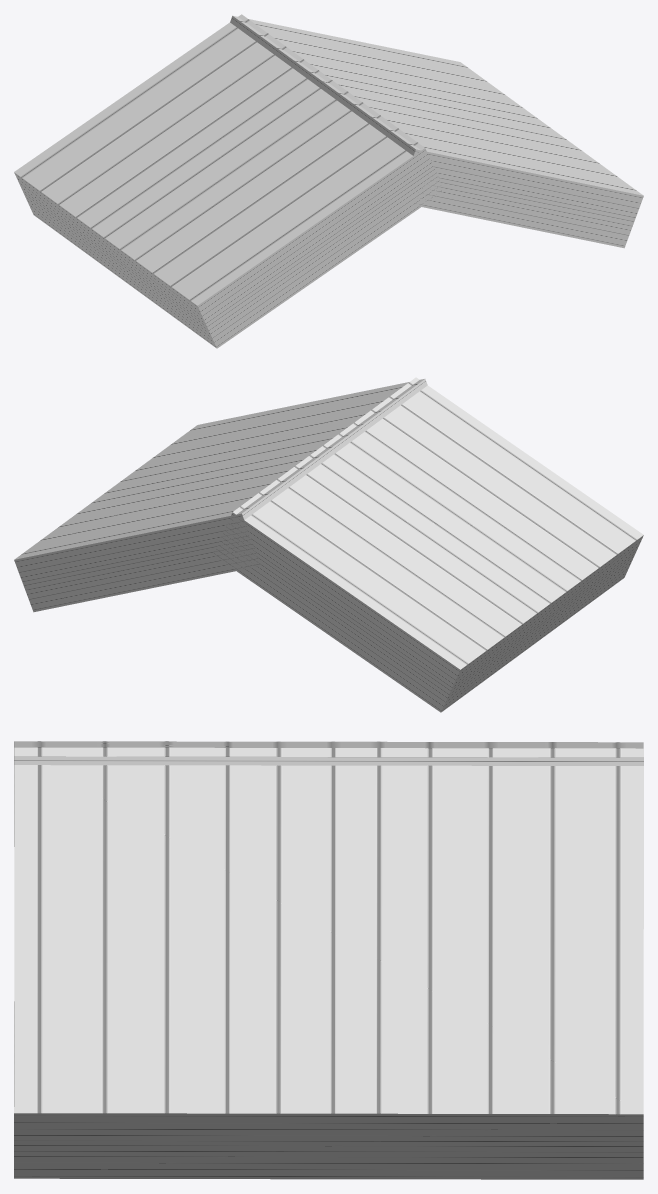
File: hat_1__Object_8.glb
3 renders of one model, top to bottom at view 1: azimuth 30°, elevation 25°; view 2: azimuth 150°, elevation 25°; view 3: azimuth 270°, elevation 25°, orthographic. The views are drawn at different scales.
Parts seen in each view (by area): view 1: geometry_0; view 2: geometry_0; view 3: geometry_0.
Boxes of the visible parts, left/top/right/bottom form: geometry_0: left=14, top=14, right=643, bottom=348; geometry_0: left=14, top=377, right=643, bottom=712; geometry_0: left=14, top=741, right=643, bottom=1179.
Bounding box in the file's own units: 1.76 × 0.5701 × 1.25.
1 material, 1 textured.
